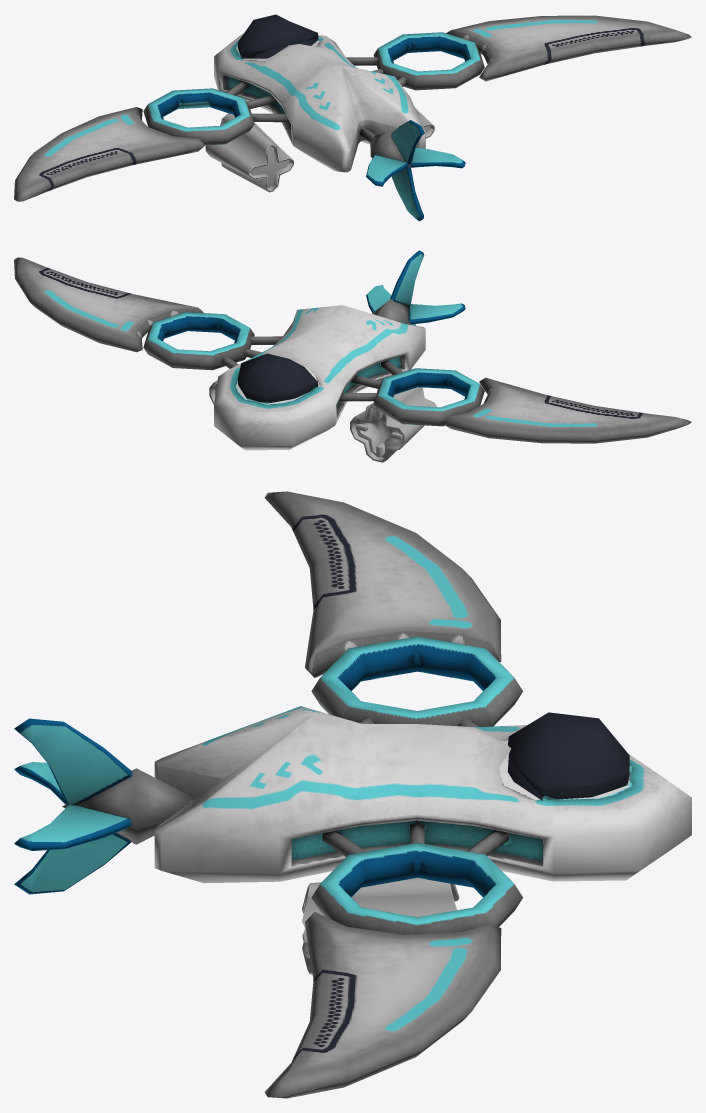
File: mesh_gorrionship_body_01.fbx
The picture shows the model from 3 angles, top to bottom: view 1: azimuth 30°, elevation 25°; view 2: azimuth 150°, elevation 25°; view 3: azimuth 270°, elevation 25°; orthographic projection. The views are drawn at different scales.
Parts seen in each view (by area): view 1: mesh_gorrionship_body_01, polySurface2, polySurface1, mesh_gorrionship_tail_01, mesh_gorrionship_wing_L_01, mesh_gorrionship_wing_R_01, mesh_lasers_spaceships_05; view 2: mesh_gorrionship_body_01, polySurface1, polySurface2, mesh_gorrionship_wing_L_01, mesh_gorrionship_wing_R_01, mesh_lasers_spaceships_05, mesh_gorrionship_tail_01; view 3: mesh_gorrionship_body_01, polySurface2, polySurface1, mesh_gorrionship_tail_01, mesh_gorrionship_wing_L_01, mesh_gorrionship_wing_R_01, mesh_lasers_spaceships_04.
Part boxes in pixels (box(x1,y1,x2,y2)): mesh_gorrionship_body_01: box(214, 14, 425, 172); polySurface2: box(446, 15, 691, 81); polySurface1: box(14, 107, 206, 201); mesh_gorrionship_tail_01: box(366, 120, 465, 221); mesh_gorrionship_wing_L_01: box(373, 32, 484, 90); mesh_gorrionship_wing_R_01: box(143, 88, 254, 145); mesh_lasers_spaceships_05: box(205, 113, 293, 192); mesh_gorrionship_body_01: box(214, 305, 425, 450); polySurface1: box(440, 377, 691, 443); polySurface2: box(14, 257, 203, 352); mesh_gorrionship_wing_L_01: box(143, 312, 254, 370); mesh_gorrionship_wing_R_01: box(373, 368, 484, 426); mesh_lasers_spaceships_05: box(350, 387, 437, 462); mesh_gorrionship_tail_01: box(366, 250, 465, 325); mesh_gorrionship_body_01: box(154, 706, 691, 883); polySurface2: box(264, 912, 501, 1098); polySurface1: box(264, 491, 501, 677); mesh_gorrionship_tail_01: box(14, 718, 195, 894); mesh_gorrionship_wing_L_01: box(311, 842, 522, 934); mesh_gorrionship_wing_R_01: box(311, 636, 522, 726); mesh_lasers_spaceships_04: box(302, 878, 459, 974).
Size of the model in its own units: 21.34 by 3.38 by 10.11.
2 materials, 1 textured.
